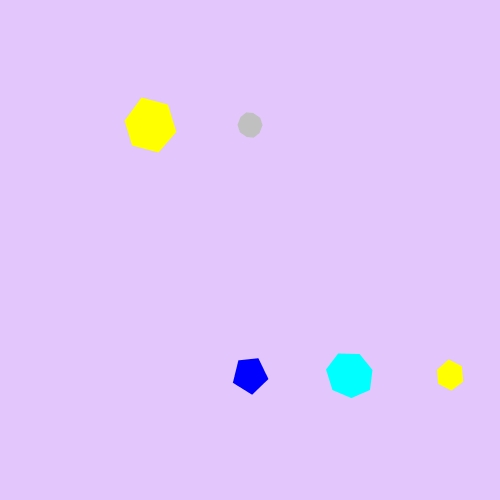decagon: (233, 109, 267, 141)
heptagon: (323, 349, 377, 401)
hexagon: (118, 99, 182, 152), (431, 359, 470, 392)
pentagon: (229, 354, 272, 397)
